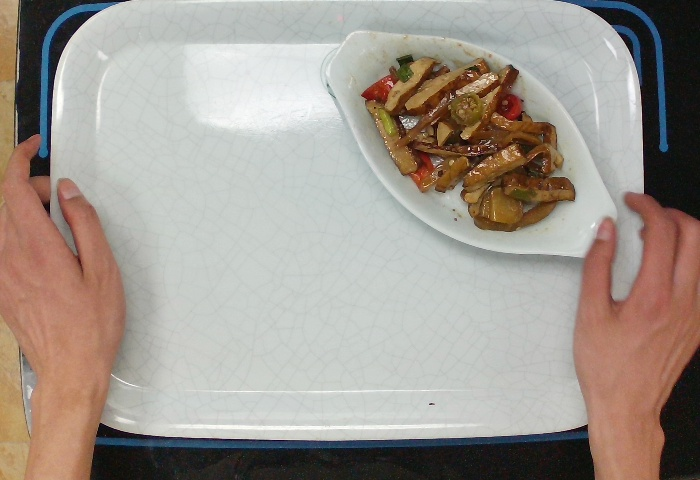JYsf-Yu_Pan: (321, 25, 621, 265)
